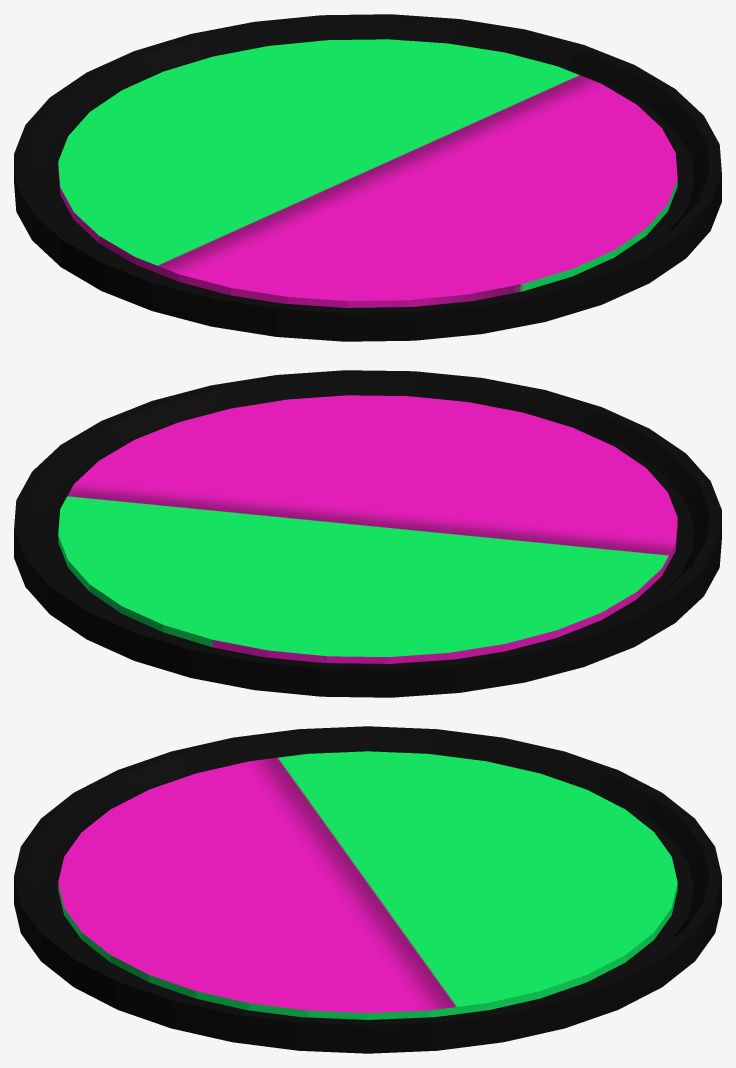
The model's file is scratch.glb.
3 views of the same model, one above another, from view 1: azimuth 30°, elevation 25°; view 2: azimuth 150°, elevation 25°; view 3: azimuth 270°, elevation 25° (orthographic).
Visible parts, largest first — view 1: Cylinder.001, Cylinder; view 2: Cylinder.001, Cylinder; view 3: Cylinder.001, Cylinder.
Part boxes in pixels (x1,y1,x2,y2): Cylinder.001: (58,39,677,307); Cylinder: (14,14,721,341); Cylinder.001: (58,395,677,663); Cylinder: (14,370,721,697); Cylinder.001: (58,751,677,1019); Cylinder: (14,726,721,1053).
Size of the model in its own units: 2.4 by 0.1065 by 2.4.
2 materials, 1 textured.
